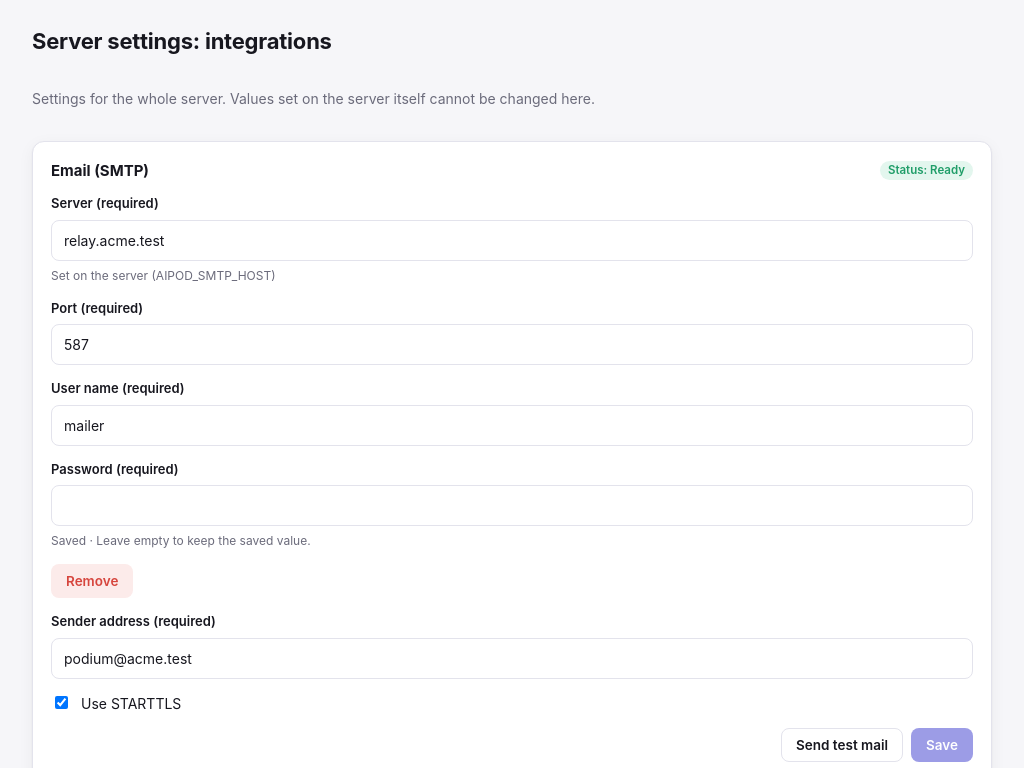
Test: saving an integration › says someone else saved at the same moment on 409 settings_conflict
In the field labelled "User name (required)": (512, 425) [51,404,973,446], type "x"
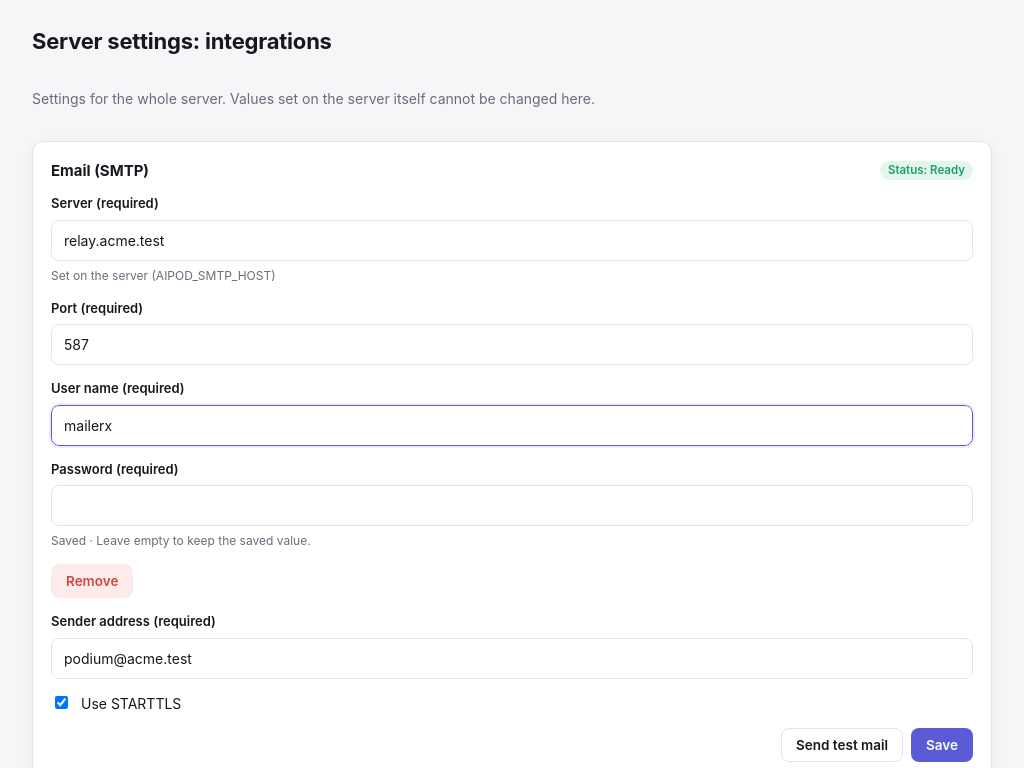
Click the button "Save": click(942, 744) [911,728,973,762]
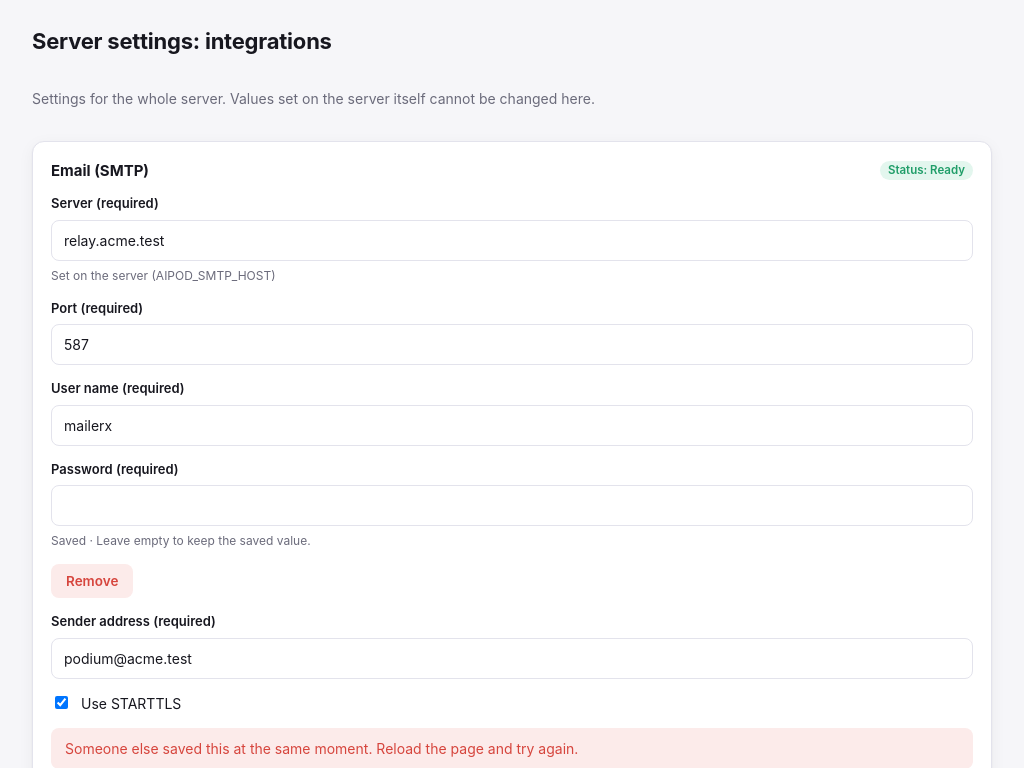
Now the message reads "Someone else saved this at the same moment. Reload the page and try again.", box [65,740,578,756]
